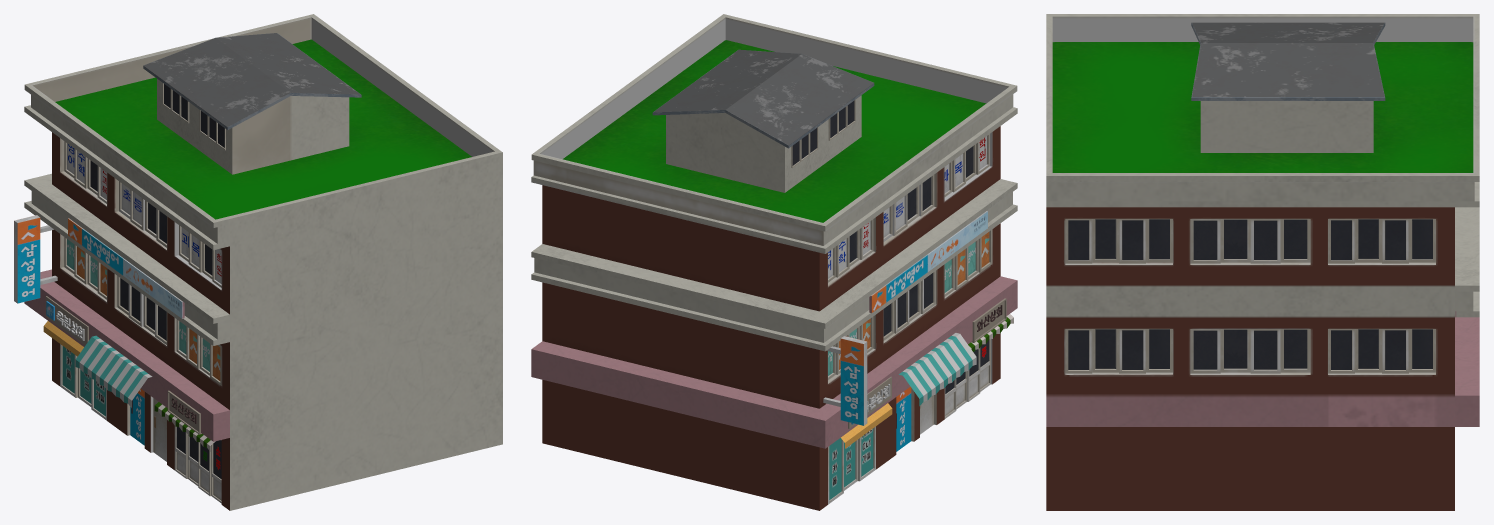
The model's file is stage2_building4.fbx.
3 views of the same model, side by side, from view 1: azimuth 30°, elevation 25°; view 2: azimuth 150°, elevation 25°; view 3: azimuth 270°, elevation 25° (orthographic). The views are drawn at different scales.
Parts seen in each view (by area): view 1: Cube.230, Cube.234, Cube.233, Cube.202, Cube.232, Cube.199, Cube.203, Cube.201, Plane.003, Cube.189, Cube.186, Plane.005 (+15 smaller); view 2: Cube.199, Cube.232, Cube.233, Cube.201, Cube.234, Cube.202, Cube.203, Cube.231, Plane.003, Cube.186, Cube.195, Plane.005 (+13 smaller); view 3: Cube.199, Cube.234, Cube.201, Cube.233, Cube.202, Cube.203, Cube.197, Cube.239, Cube.232, Cube.238, Cube.240, Cube.241 (+1 smaller).
Part boxes in pixels (<box>): Cube.230: <box>213,152,502,510</box>; Cube.234: <box>55,39,471,219</box>; Cube.233: <box>24,14,502,249</box>; Cube.202: <box>143,33,361,130</box>; Cube.232: <box>24,173,229,441</box>; Cube.199: <box>52,132,229,409</box>; Cube.203: <box>232,96,349,174</box>; Cube.201: <box>52,338,229,510</box>; Plane.003: <box>75,335,152,407</box>; Cube.189: <box>174,426,221,503</box>; Cube.186: <box>14,215,40,303</box>; Plane.005: <box>68,218,184,318</box>; Cube.199: <box>542,126,1000,408</box>; Cube.232: <box>531,179,1017,448</box>; Cube.233: <box>531,14,1017,253</box>; Cube.201: <box>542,333,1000,510</box>; Cube.234: <box>563,40,986,222</box>; Cube.202: <box>652,49,874,148</box>; Cube.203: <box>666,113,784,192</box>; Cube.231: <box>534,192,1012,342</box>; Plane.003: <box>899,333,976,406</box>; Cube.186: <box>840,336,867,425</box>; Cube.195: <box>828,426,875,504</box>; Plane.005: <box>869,211,987,313</box>; Cube.199: <box>1046,207,1454,426</box>; Cube.234: <box>1052,42,1473,172</box>; Cube.201: <box>1046,427,1454,510</box>; Cube.233: <box>1046,14,1479,207</box>; Cube.202: <box>1191,22,1385,100</box>; Cube.203: <box>1200,101,1373,152</box>; Cube.197: <box>1190,329,1310,373</box>; Cube.239: <box>1190,219,1310,263</box>; Cube.232: <box>1455,207,1479,426</box>; Cube.238: <box>1065,219,1172,263</box>; Cube.240: <box>1065,329,1172,373</box>; Cube.241: <box>1328,219,1435,263</box>.
Bounding box in the file's own units: 2702 × 2780 × 2823.
1 material, 1 textured.
